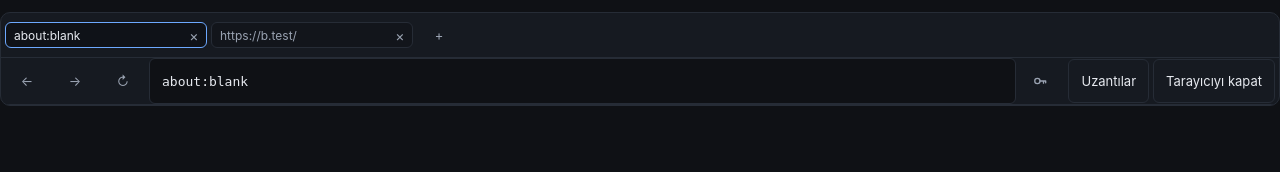
it: BrowserPanel (engine) › a tab click marks the tab at once, before the engine answers; a refused click shows the engine's tabs again
This screenshot has width=1280, height=172.
Note: A slow engine (another page is still being brought to the front): the strip follows the click anyway.
Click the button "https://b.test/" at x=300, y=35, box 212,23 -> 388,47
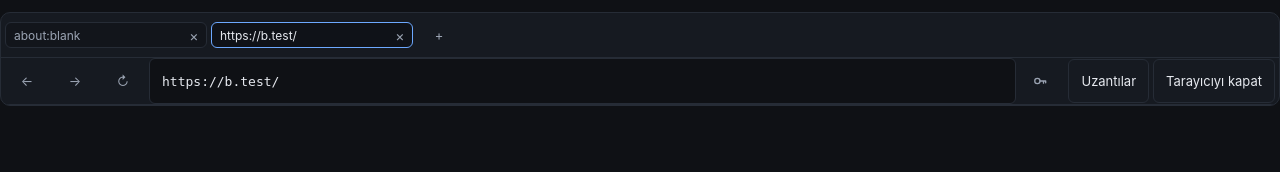
Click the button "about:blank" at x=94, y=35, box 6,23 -> 182,47
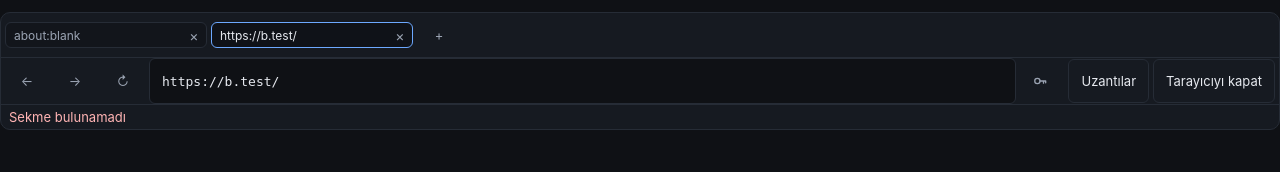
Expected: the message reads "Sekme bulunamadı", 9,109 -> 126,125
